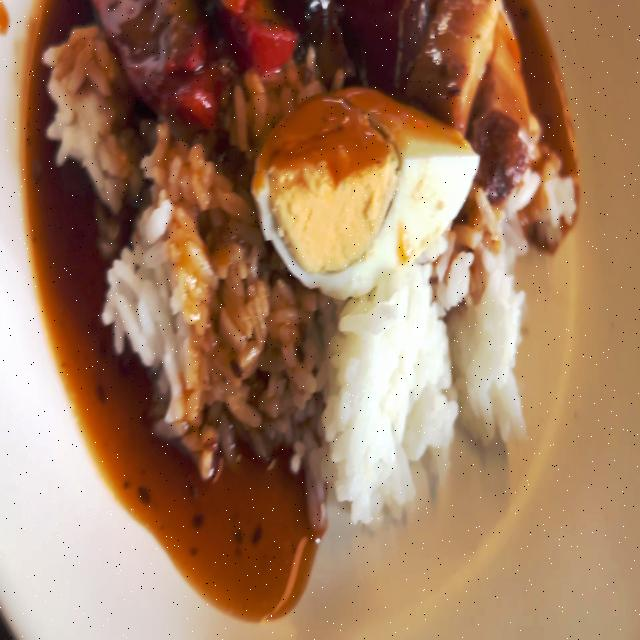boiled_egg: (259, 90, 477, 284)
chainese_sausage: (287, 0, 421, 89)
crispy_pork: (422, 0, 532, 185)
red_pork: (118, 0, 287, 121)
red_pork_and_crispy_pork: (49, 0, 576, 495)
rice: (246, 282, 530, 496), (110, 125, 246, 454), (60, 28, 134, 197)
